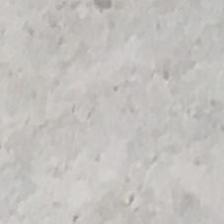Non_Crack: (32, 23, 220, 186)
